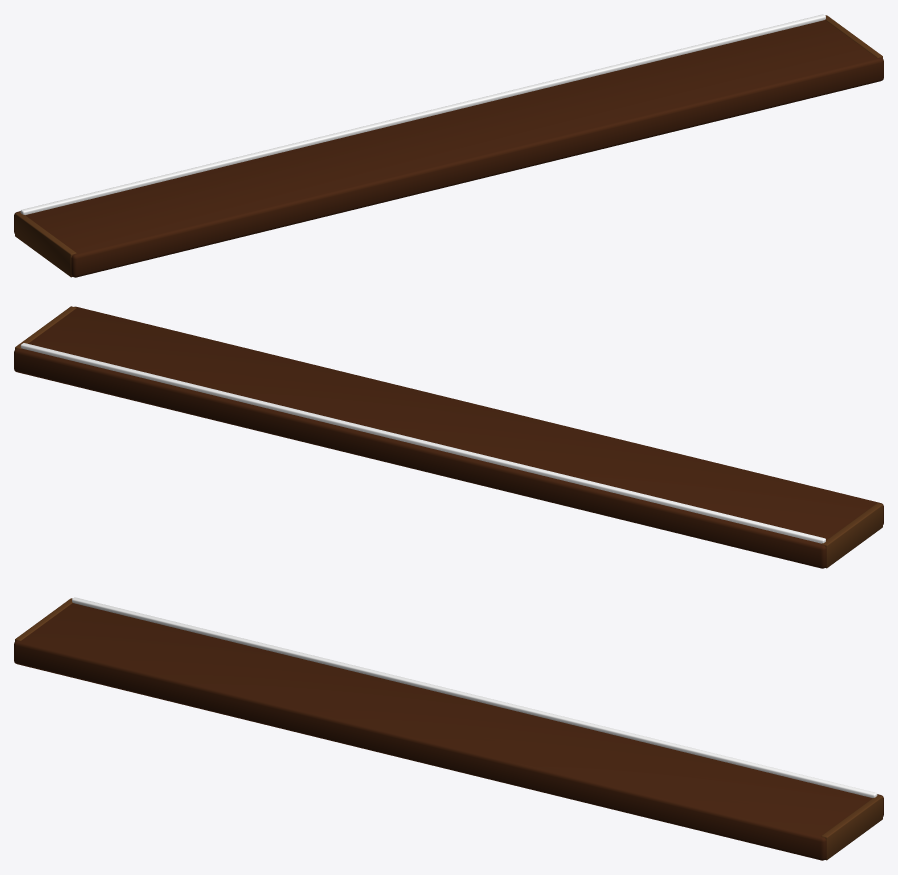
The model's file is long-wall-plank.obj.
3 renders of one model, top to bottom at view 1: azimuth 30°, elevation 25°; view 2: azimuth 150°, elevation 25°; view 3: azimuth 330°, elevation 25°, orthographic.
Parts seen in each view (by area): view 1: long-wall-plank; view 2: long-wall-plank; view 3: long-wall-plank.
Boxes of the visible parts, x1,y1,x2,y2 form: long-wall-plank: (14,14,883,277); long-wall-plank: (14,306,883,568); long-wall-plank: (14,597,883,860).
Bounding box in the file's own units: 2.6 × 0.081 × 0.34.
